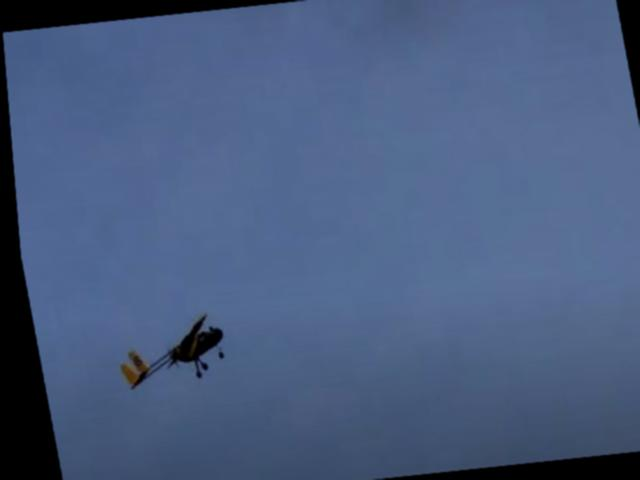iha: (97, 300, 235, 390)
